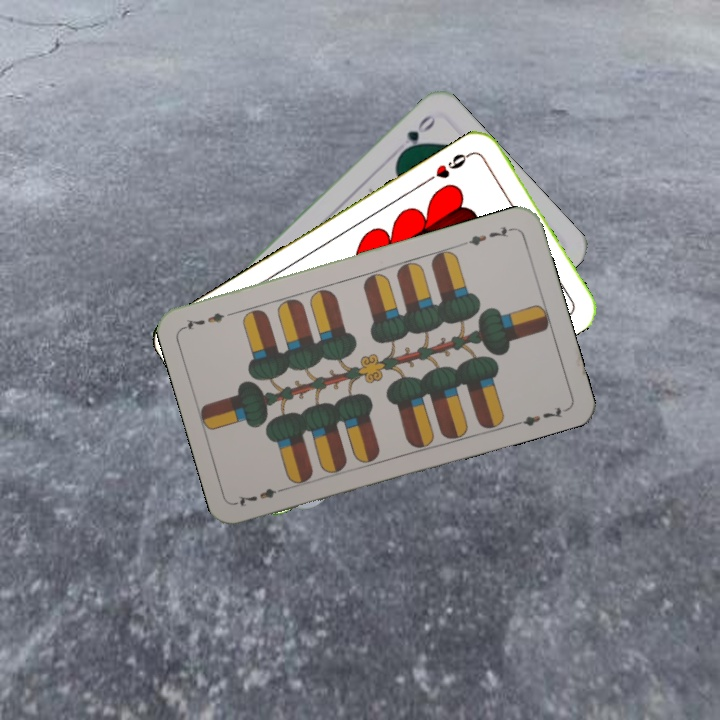E7: (233, 482, 291, 510), (460, 222, 517, 249)
GO: (391, 110, 439, 159)
H9: (422, 147, 475, 185)
